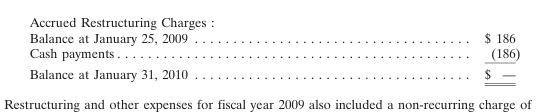table: (28, 29, 519, 81)
table column: (28, 29, 335, 81), (335, 29, 519, 81)
table row: (28, 62, 519, 81), (28, 44, 519, 62), (28, 29, 519, 44)
